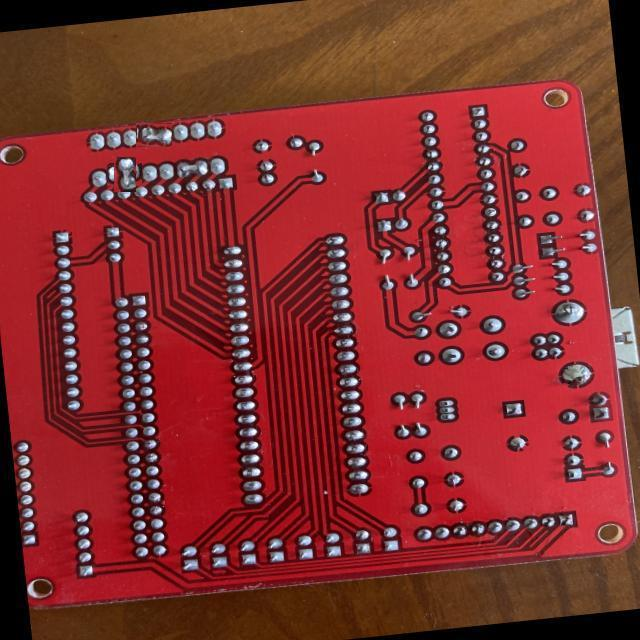damged: (136, 123, 172, 147), (110, 160, 139, 189), (172, 156, 210, 178)
